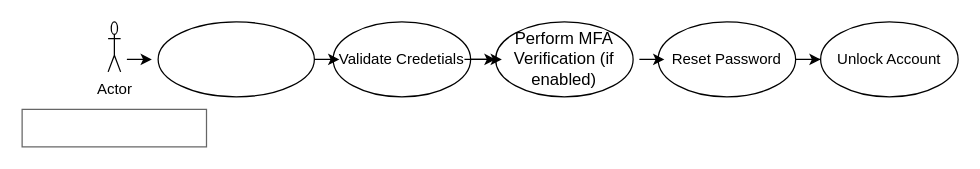
The diagram is 980 pixels wide and 169 high, and some of its shapes have lost their labels. The shapes that lost their labels are listed below. From the top down, each one's centre as x and y in pixels, then its label:
At pixel 235 59: "Sign in to FleetControl".
At pixel 113 127: "FleetControl User".
